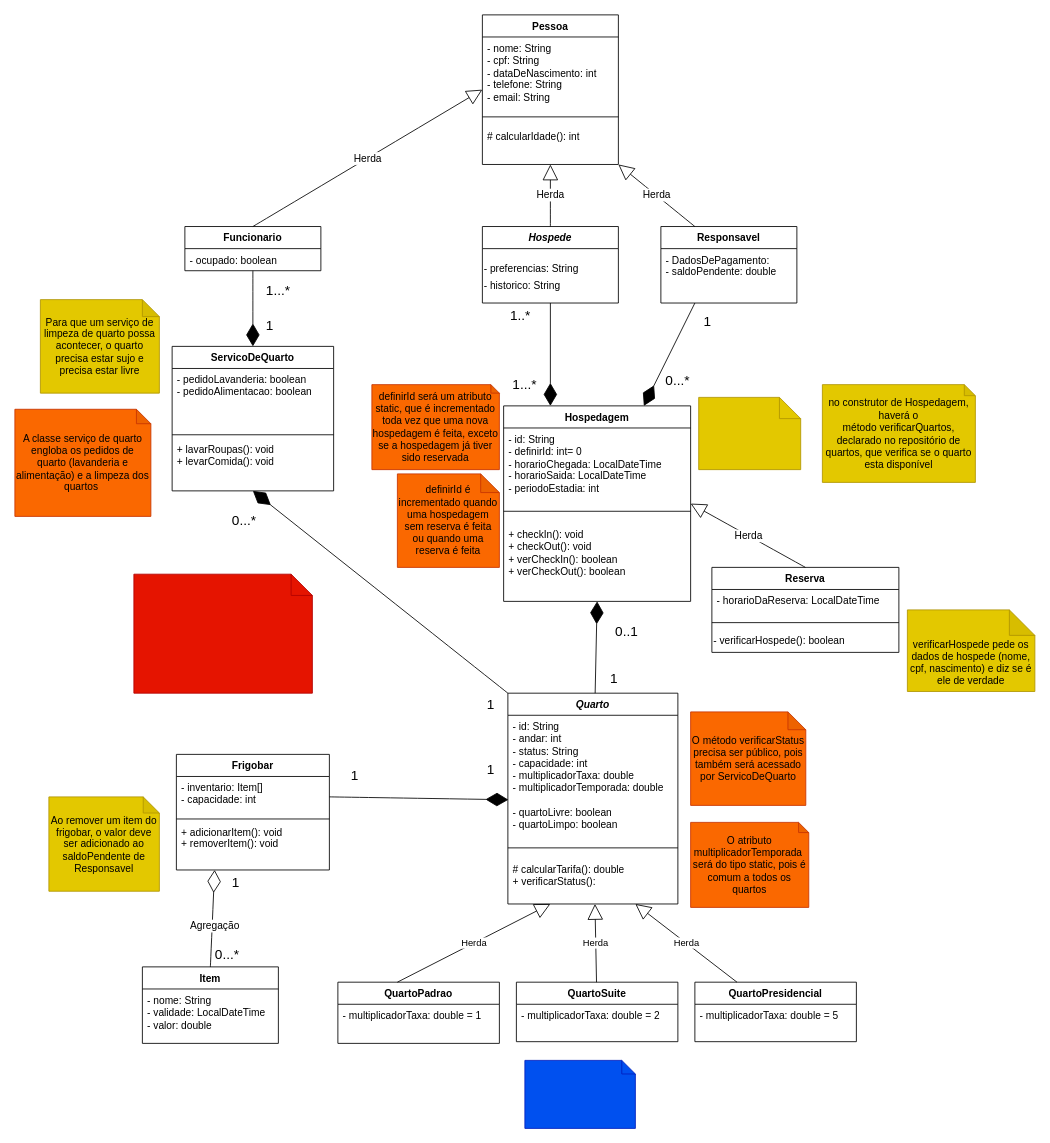
This 1050x1143 diagram has some shape labels left out. The centre of each missing label's shape, as x and y in pixels:
"cheacagem de checkIO será feita se checkIO != null" belongs at point (749, 433).
"Depois a gente descobre o formato de tempo certo." belongs at point (579, 1094).
"REVER PRIVACIDADE DOS ATRUBTOS E MÉTODOS !!!!!" belongs at point (222, 633).
